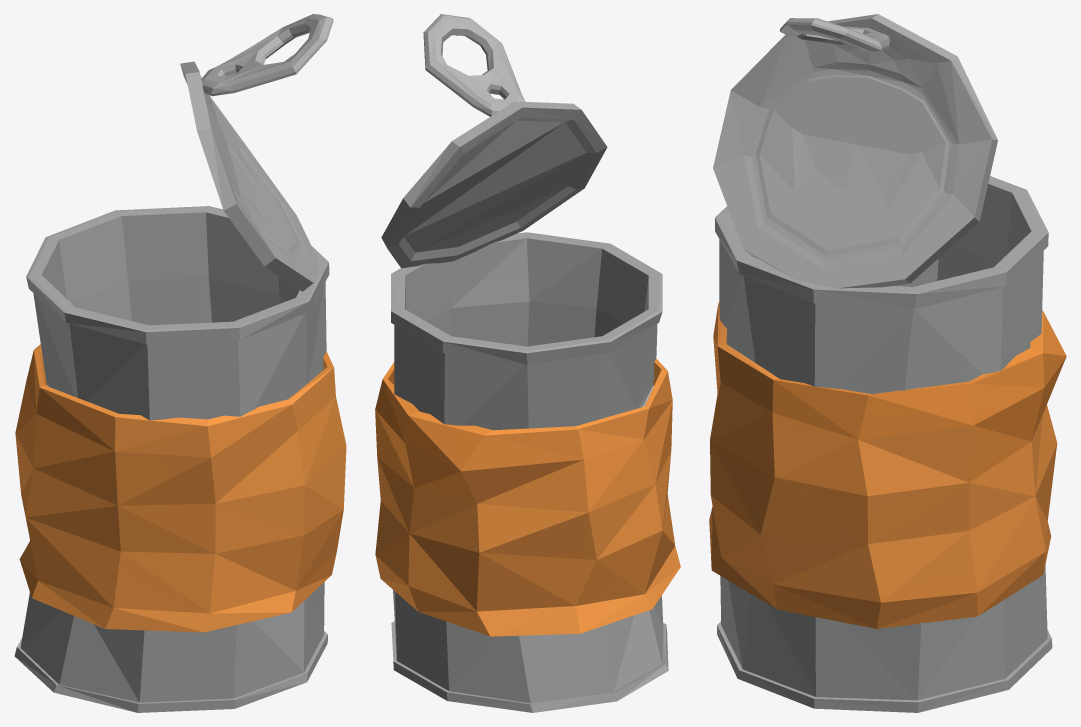
The model's file is can_1_opeend_B.obj.
The picture shows the model from 3 angles, left to right: view 1: azimuth 30°, elevation 25°; view 2: azimuth 150°, elevation 25°; view 3: azimuth 270°, elevation 25°; orthographic projection. The views are drawn at different scales.
Parts seen in each view (by area): view 1: can_1_opeend_B_Mesh; view 2: can_1_opeend_B_Mesh; view 3: can_1_opeend_B_Mesh.
Boxes of the visible parts, bbox=[...] form: can_1_opeend_B_Mesh: bbox=[14, 14, 346, 712]; can_1_opeend_B_Mesh: bbox=[375, 14, 680, 712]; can_1_opeend_B_Mesh: bbox=[709, 14, 1066, 712].
Bounding box in the file's own units: 0.1224 × 0.2491 × 0.1171.
